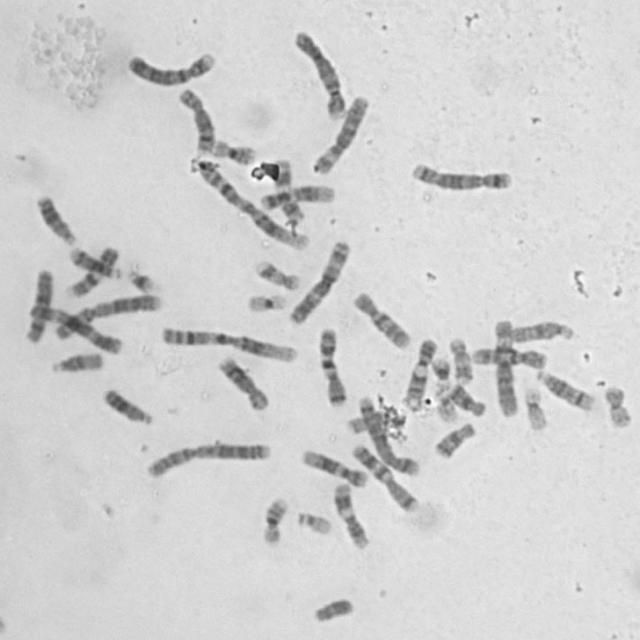A1: (192, 155, 312, 252), (156, 321, 300, 364)
A2: (50, 288, 165, 342), (142, 436, 274, 479)
A3: (284, 234, 353, 326), (25, 299, 124, 355)
B4: (290, 24, 350, 121), (123, 46, 221, 88)
B5: (351, 390, 421, 477), (407, 157, 515, 192)
C10: (348, 286, 414, 351), (466, 342, 548, 369)
C11: (329, 478, 372, 551), (272, 156, 306, 224)
C12: (297, 444, 370, 488), (255, 180, 338, 211)
C6: (308, 90, 372, 176), (490, 316, 520, 418)
C7: (347, 438, 421, 514), (314, 323, 349, 408)
C8: (214, 351, 272, 412), (172, 83, 216, 156)
C9: (64, 242, 120, 300), (400, 333, 439, 406)
D13: (32, 190, 78, 247), (98, 384, 156, 426)
D14: (532, 365, 598, 413), (65, 242, 122, 281)
D15: (504, 316, 576, 343), (46, 347, 106, 375)
E16: (258, 492, 290, 547), (208, 134, 258, 166)
E17: (250, 255, 302, 292), (444, 333, 476, 386)
E18: (430, 418, 478, 460), (445, 379, 488, 418)
F19: (520, 382, 550, 432), (243, 288, 289, 314)
F20: (600, 380, 634, 430), (344, 409, 396, 435)
G21: (124, 264, 157, 294), (427, 352, 453, 384)
G22: (430, 381, 460, 424), (293, 507, 334, 536)
X: (20, 264, 57, 345)
Y: (309, 592, 356, 624)
